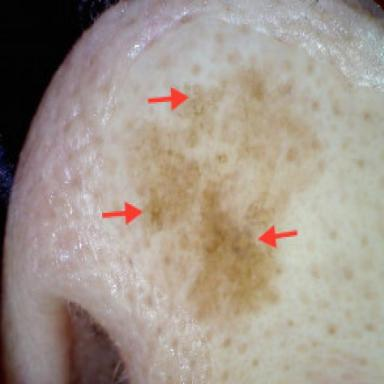Melanoma: (128, 50, 337, 327)
